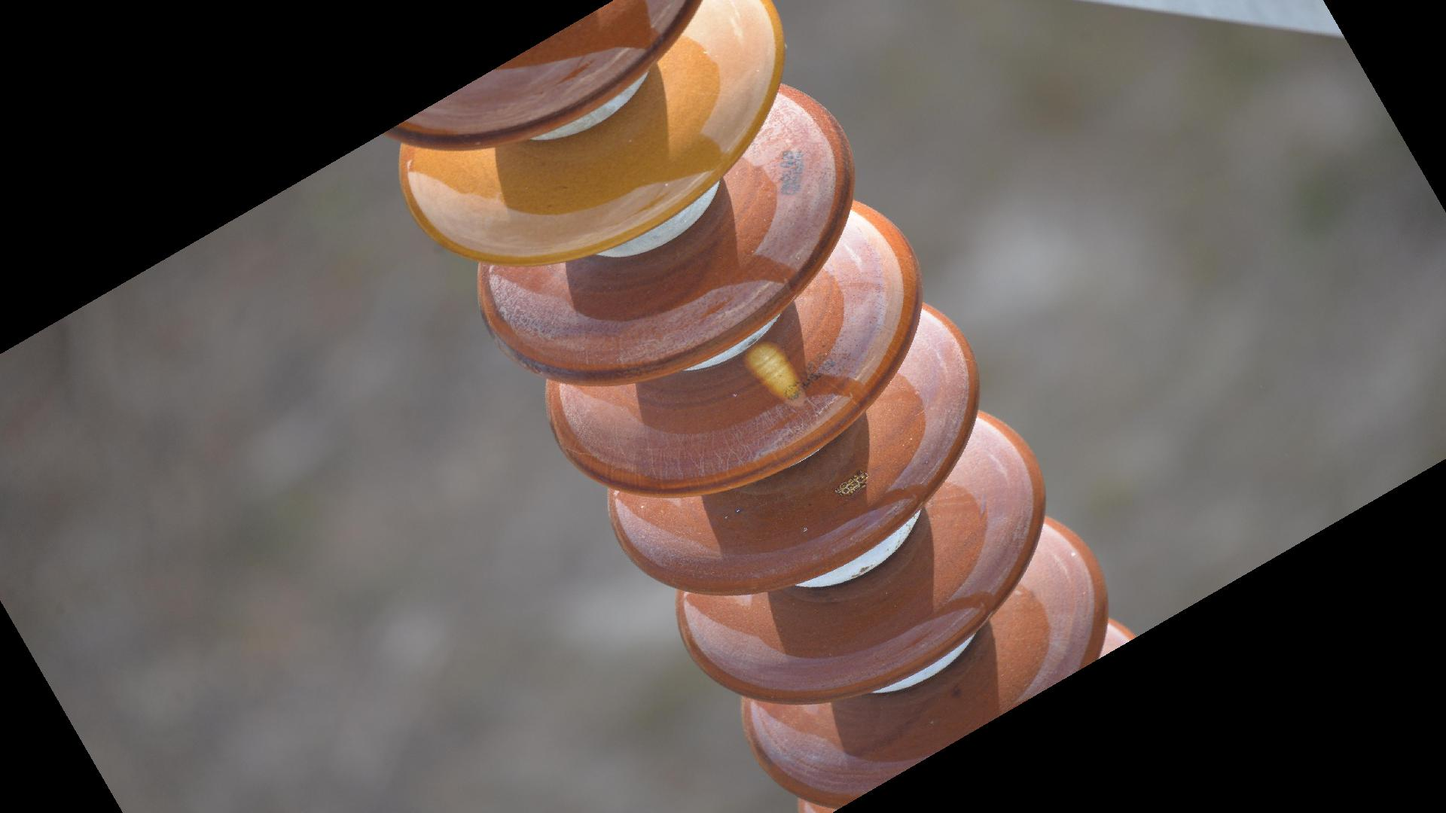insulator: (374, 1, 1142, 813)
insulator_flashover: (737, 334, 811, 413)
